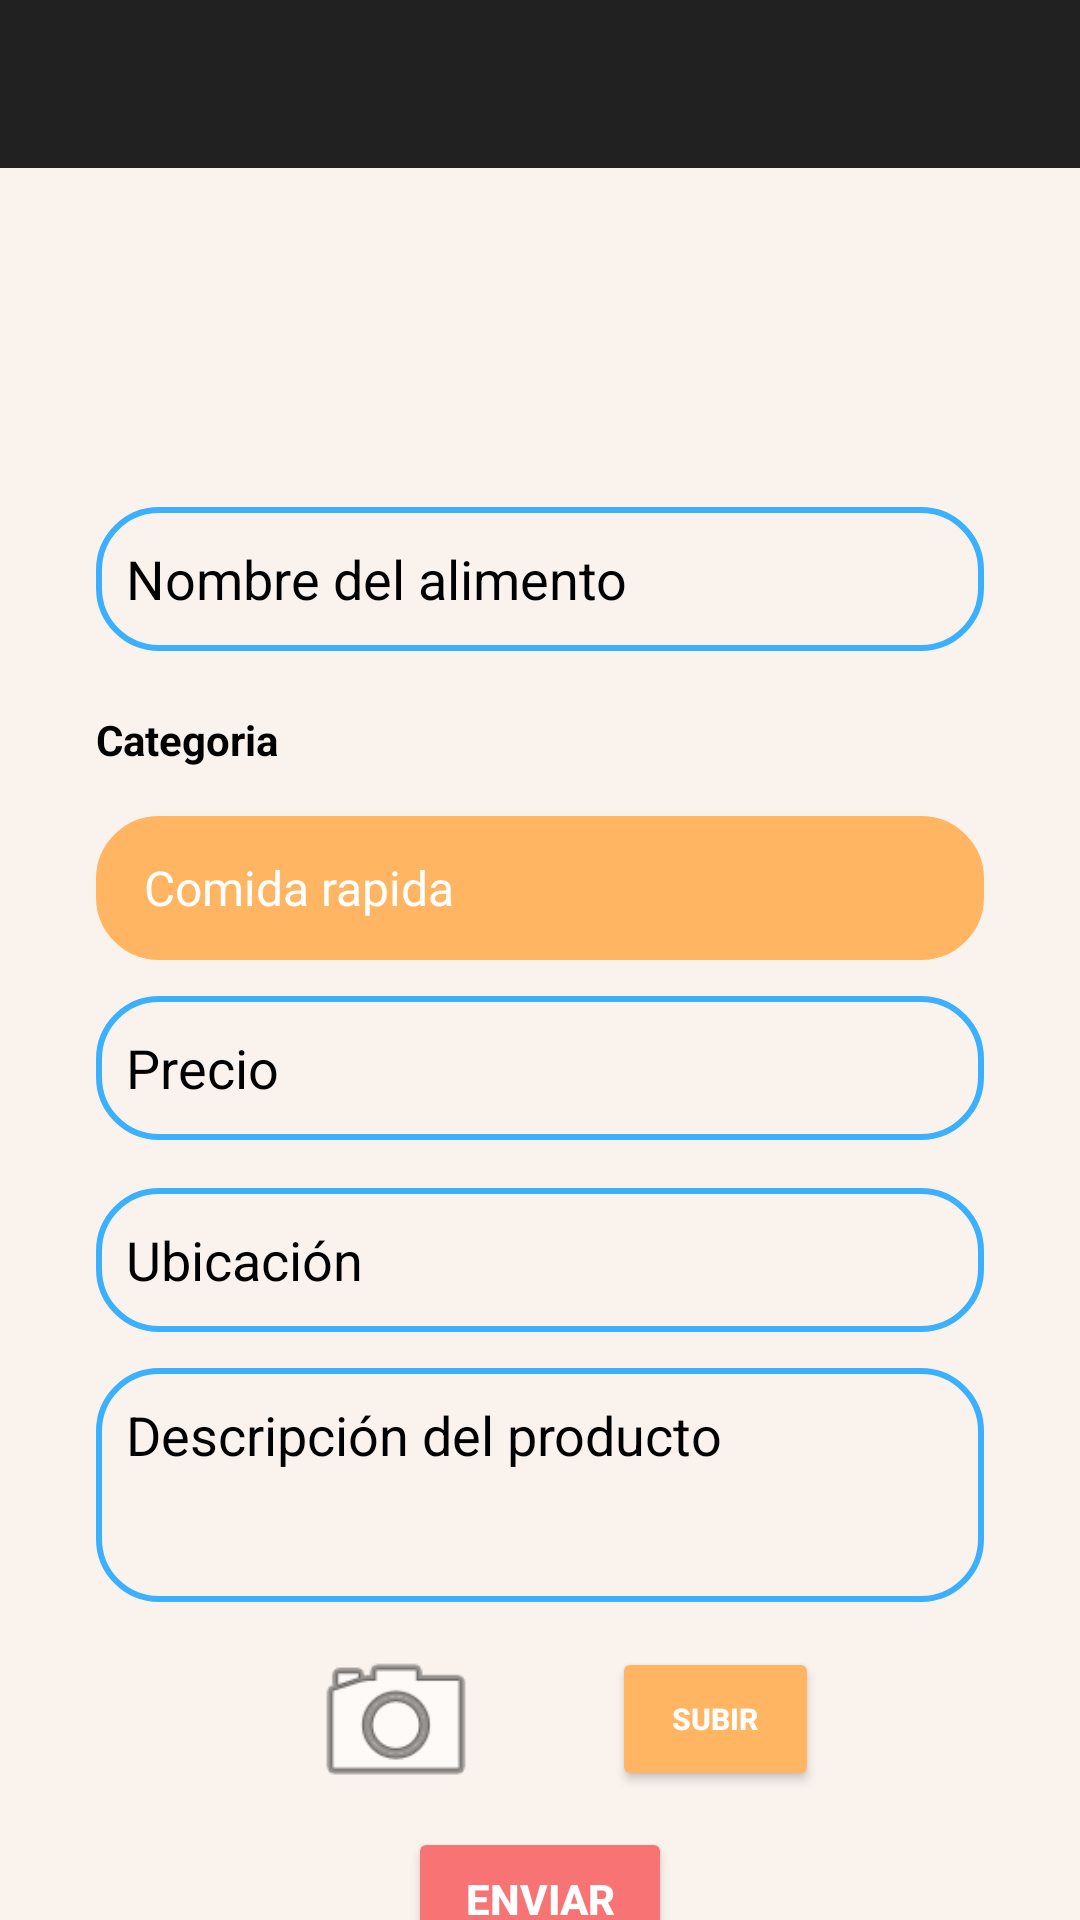

Icons on this 1080px x 1920px Android screen, each with the point to tap as (x=x, y=y):
camera: (x=396, y=1719)
